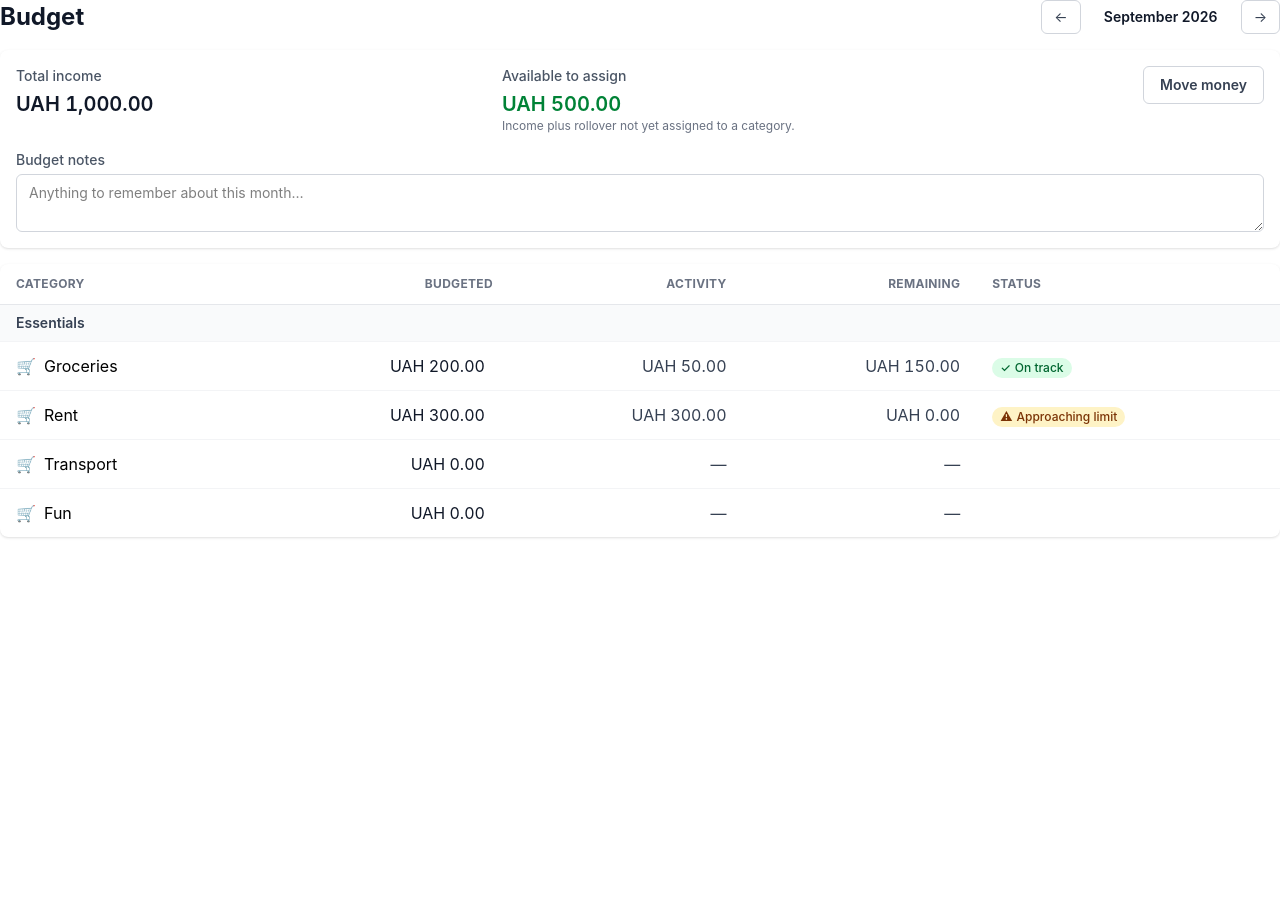
BudgetPage › refuses to move more than the source category has budgeted
This screenshot has width=1280, height=900.
Click the button "Move money": [1204, 85] box top-left (1143, 66), bottom-right (1264, 104)
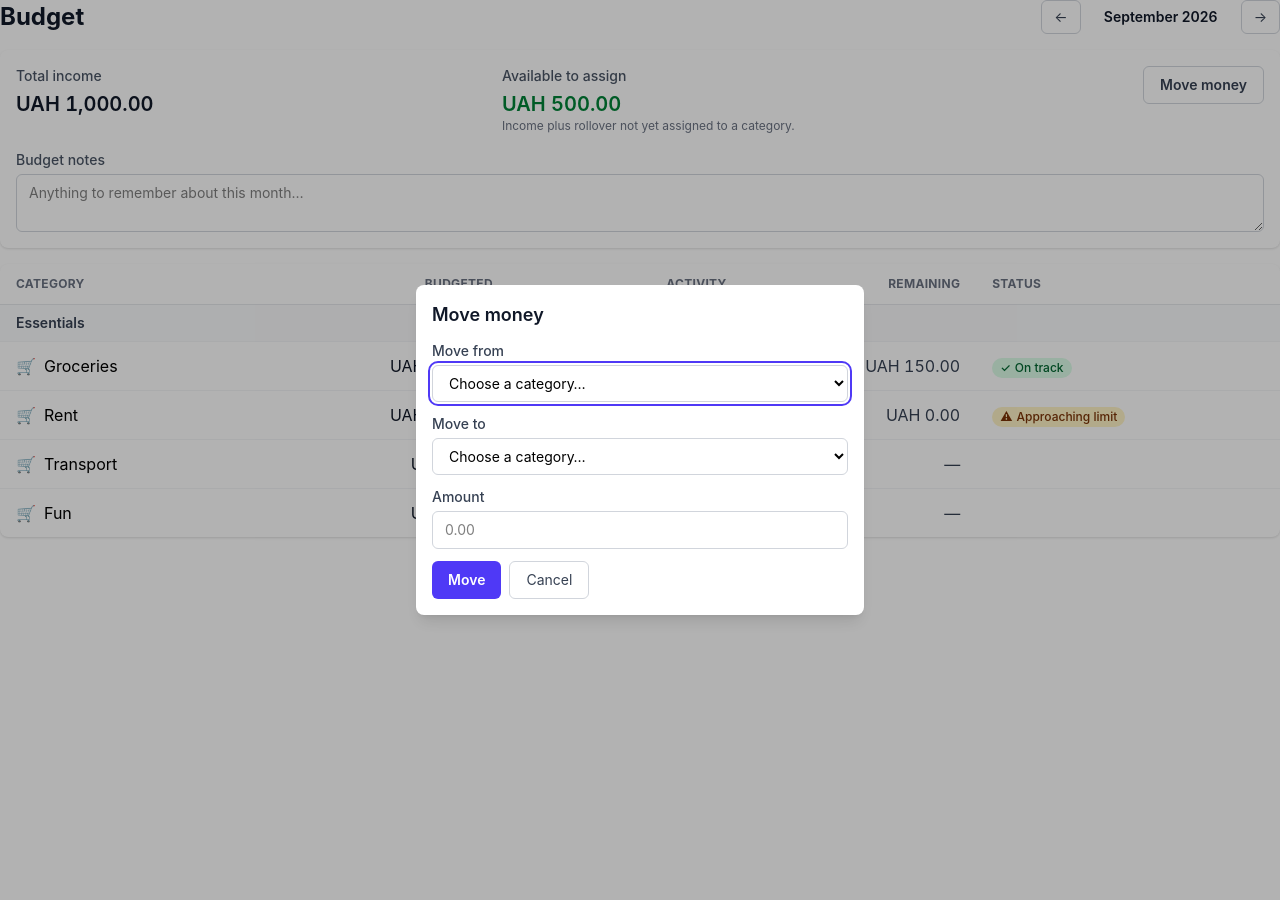
Select "Essentials · Groceries" in the dropdown labelled "Move from": [640, 384] box top-left (432, 365), bottom-right (848, 402)
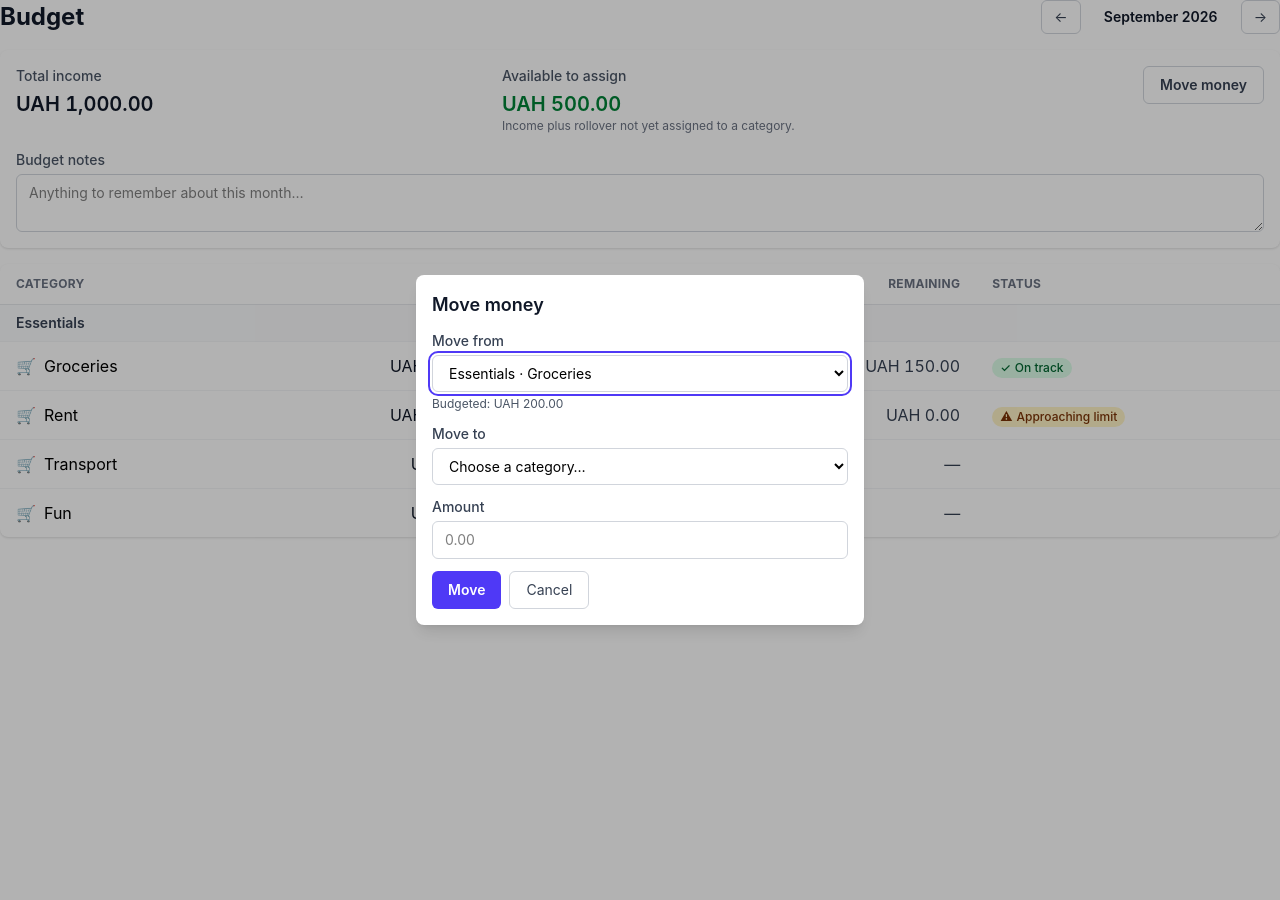
Select "Essentials · Rent" in the dropdown labelled "Move to": [640, 466] box top-left (432, 448), bottom-right (848, 485)
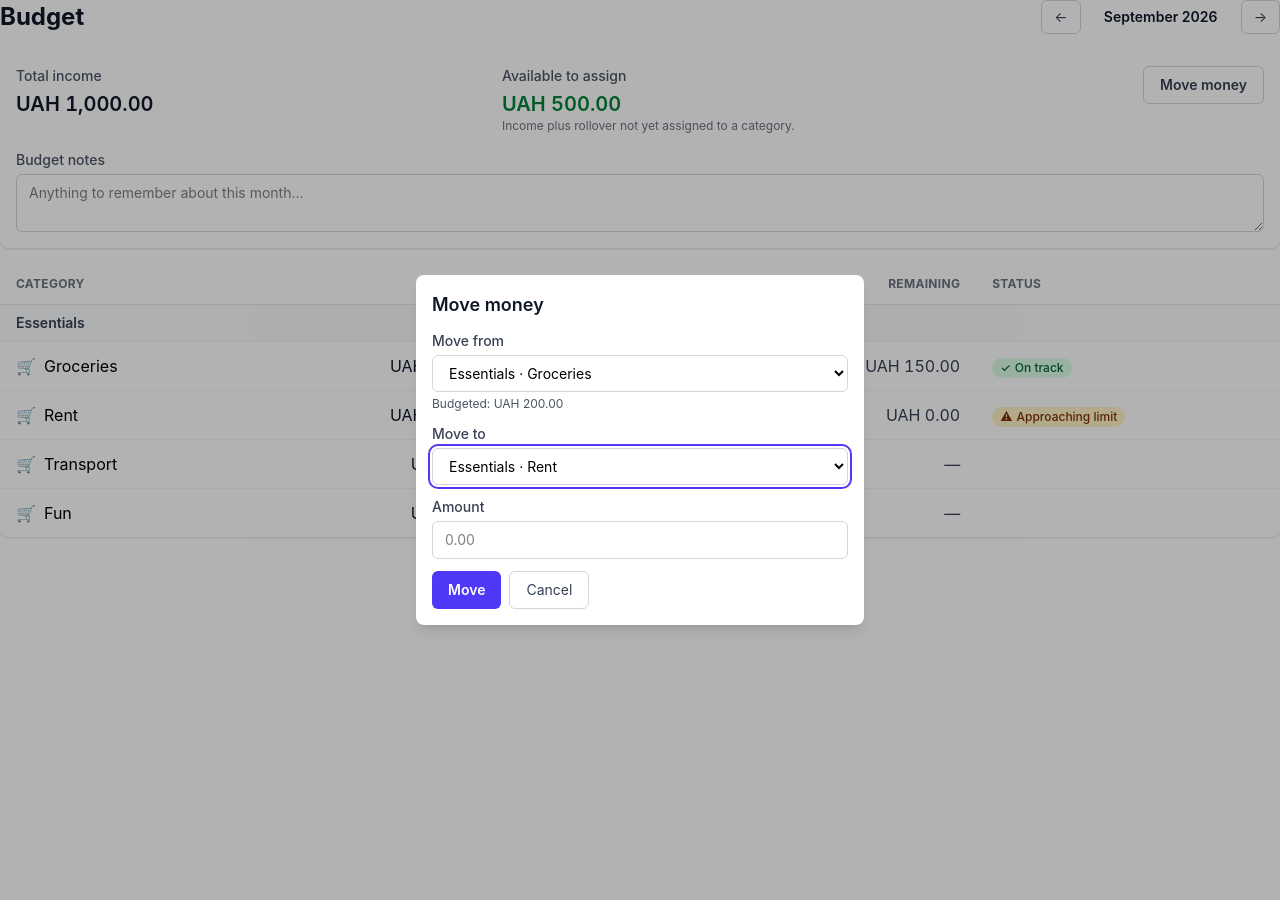
In the field labelled "Amount": [640, 540] box top-left (432, 521), bottom-right (848, 559), type "999.00"
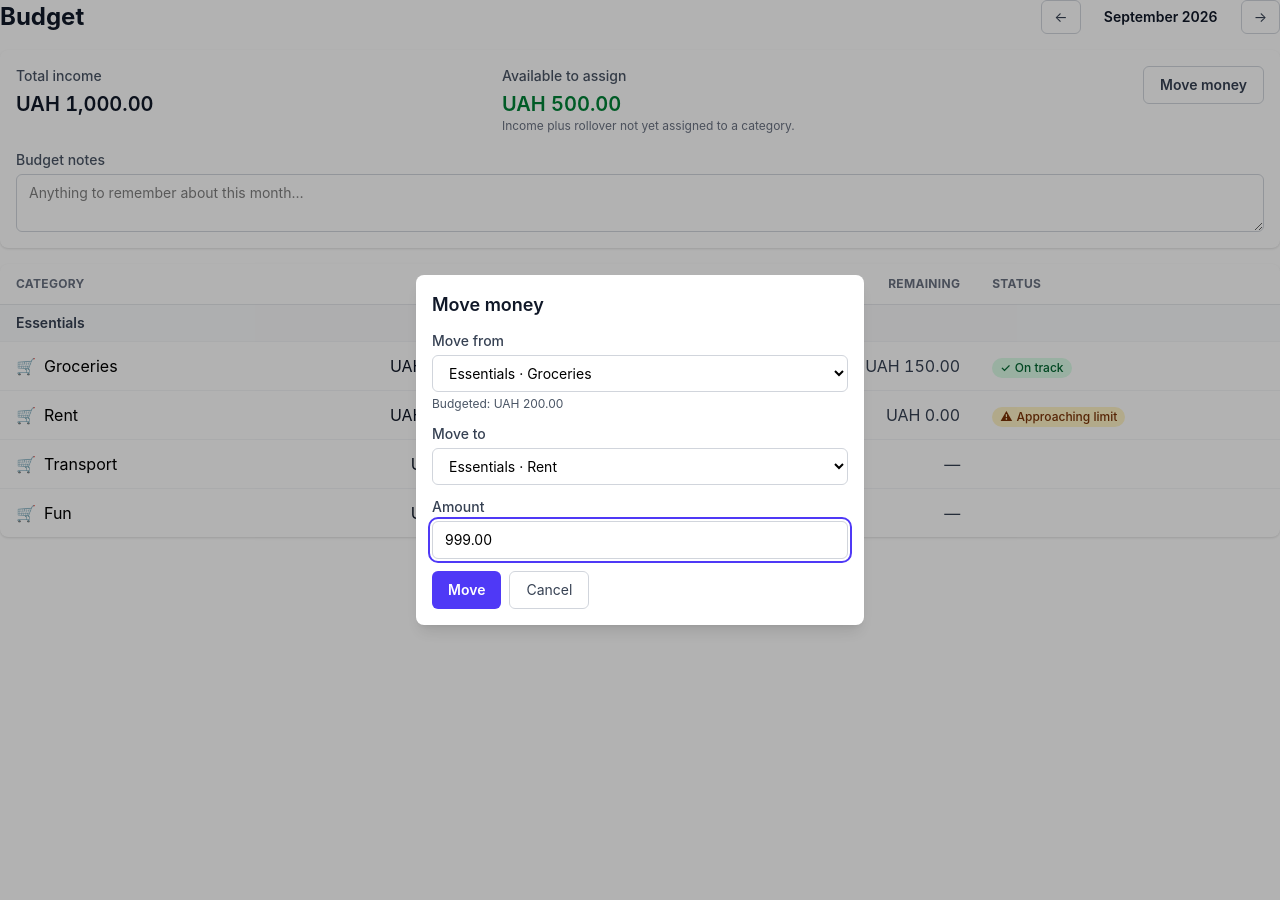
Click the button "Move": [467, 590] box top-left (432, 571), bottom-right (501, 609)
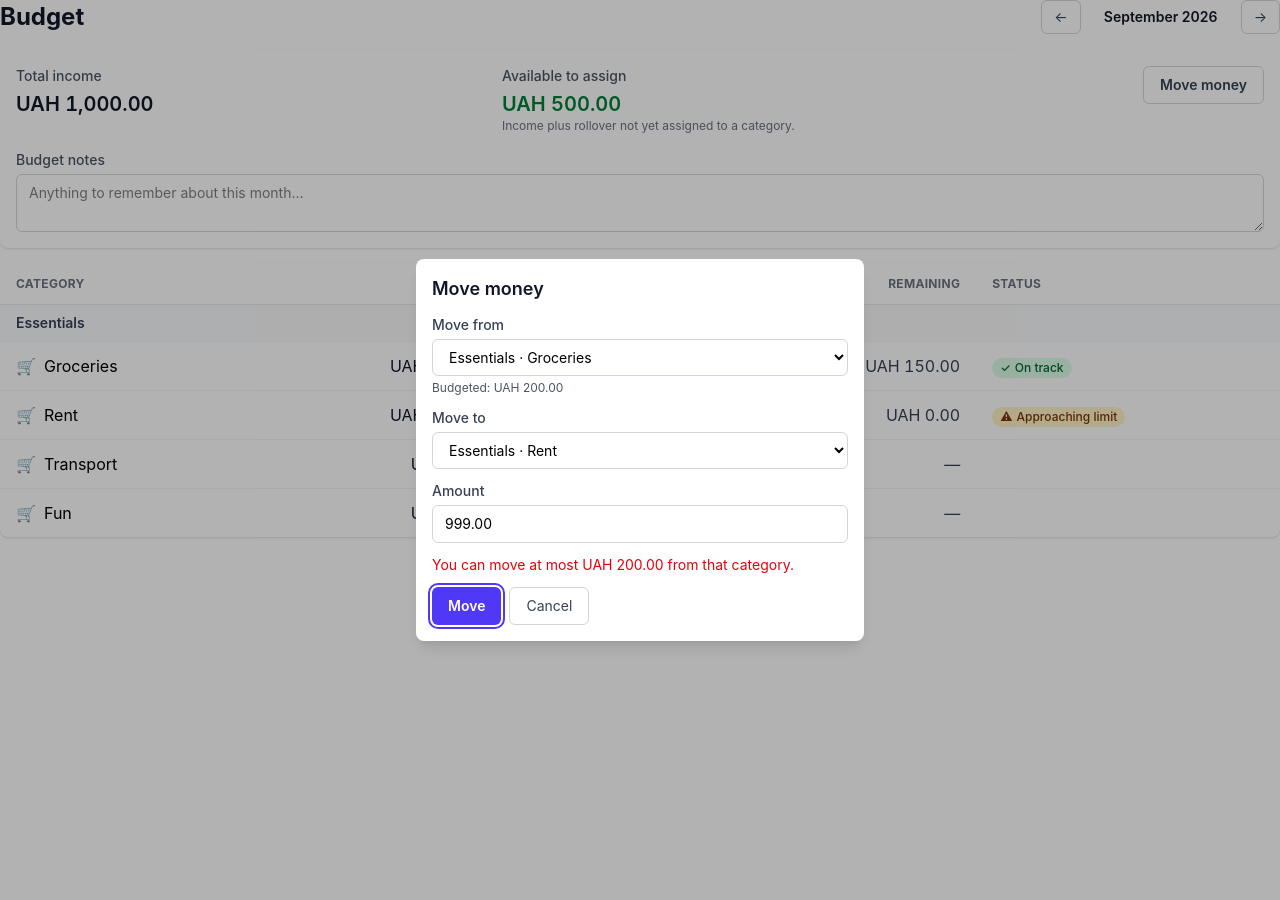
Expected: the message shows "at most", top-left (432, 556), bottom-right (794, 573)
